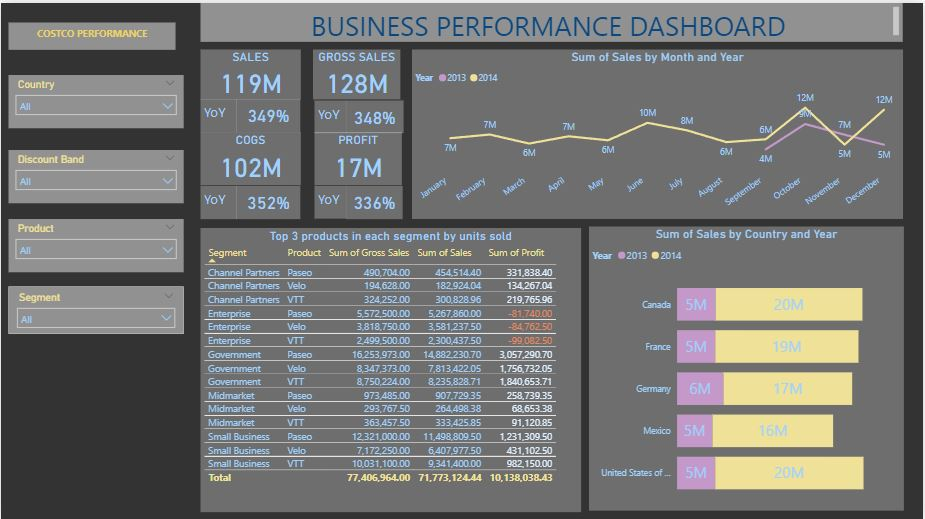

Layout of this report page (visuals, bound fields, positions):
{"tool":"powerbi","page":{"name":"costco ","canvas":[1280,720],"ordinal":0},"visuals":[{"type":"card","title":"SALES","fields":{"Values":["Sum(financials. Sales)"]},"box":[276.2,65.1,139.2,69.6],"z":0},{"type":"card","title":"GROSS SALES","fields":{"Values":["Sum(financials.Gross Sales)"]},"box":[434.2,64.7,121.6,69.5],"z":1000},{"type":"card","title":"COGS","fields":{"Values":["Sum(financials.COGS)"]},"box":[276.2,179.6,139.2,74.1],"z":2000},{"type":"card","title":"PROFIT","fields":{"Values":["Sum(financials.Profit)"]},"box":[435.6,179.6,121.3,74.1],"z":3000},{"type":"textbox","box":[276.3,0,709,53.7],"z":4000},{"type":"card","fields":{"Values":["financials. Sales YoY%"]},"box":[326.8,134.2,88.4,45.8],"z":5000},{"type":"textbox","box":[276.3,134.2,50.5,45.8],"z":6000},{"type":"card","fields":{"Values":["financials.Gross Sales YoY%"]},"box":[478.3,134.4,79.7,45.3],"z":7000},{"type":"textbox","box":[434.5,134.4,43.8,45.3],"z":8000},{"type":"card","fields":{"Values":["financials.COGS YoY%"]},"box":[326.8,254.2,88.4,45.8],"z":9000},{"type":"card","fields":{"Values":["financials.Profit YoY%"]},"box":[478.4,254.2,78.9,45.8],"z":10000},{"type":"textbox","box":[434.5,254.8,43.8,45.3],"z":11000},{"type":"textbox","box":[276.3,254.2,50.5,45.8],"z":12000},{"type":"lineChart","fields":{"Category":["financials.Date.Variation.Date Hierarchy.Month"],"Y":["Sum(financials. Sales)"],"Series":["financials.Date.Variation.Date Hierarchy.Year"]},"box":[571.6,64.7,682.1,235.3],"z":13000},{"type":"tableEx","title":"Top 3 products in each segment by units sold","fields":{"Values":["financials.Segment","financials.Product","Sum(financials.Gross Sales)","Sum(financials. Sales)","Sum(financials.Profit)"]},"box":[276.3,312.6,529,394.7],"z":14000},{"type":"barChart","fields":{"Category":["financials.Country"],"Y":["Sum(financials. Sales)"],"Series":["financials.Date.Variation.Date Hierarchy.Year"]},"box":[816.3,311.1,437.4,394.7],"z":15000},{"type":"textbox","box":[9.5,26.8,232.1,37.9],"z":16000},{"type":"slicer","fields":{"Values":["financials.Country"]},"box":[9.5,99.5,243.2,74.2],"z":17000},{"type":"slicer","fields":{"Values":["financials.Discount Band"]},"box":[9.5,203.7,243.2,74.2],"z":18000},{"type":"slicer","fields":{"Values":["financials.Product"]},"box":[9.5,300,243.2,74.2],"z":19000},{"type":"slicer","fields":{"Values":["financials.Segment"]},"box":[9.5,393.2,243.2,66.3],"z":20000}]}

Visuals, with their boxes in screenshot pixels (x1, y1, x2, y2), scaled from the page's 1280x720 canvas onto the 925x519 screenshot:
"SALES" card: x1=200, y1=47, x2=300, y2=97
"GROSS SALES" card: x1=314, y1=47, x2=402, y2=97
"COGS" card: x1=200, y1=129, x2=300, y2=183
"PROFIT" card: x1=315, y1=129, x2=402, y2=183
textbox: x1=200, y1=0, x2=712, y2=39
card - financials. Sales YoY%: x1=236, y1=97, x2=300, y2=130
textbox: x1=200, y1=97, x2=236, y2=130
card - financials.Gross Sales YoY%: x1=346, y1=97, x2=403, y2=130
textbox: x1=314, y1=97, x2=346, y2=130
card - financials.COGS YoY%: x1=236, y1=183, x2=300, y2=216
card - financials.Profit YoY%: x1=346, y1=183, x2=403, y2=216
textbox: x1=314, y1=184, x2=346, y2=216
textbox: x1=200, y1=183, x2=236, y2=216
lineChart - financials.Date.Variation.Date Hierarchy.Month x Sum(financials. Sales): x1=413, y1=47, x2=906, y2=216
"Top 3 products in each segment by units sold" tableEx: x1=200, y1=225, x2=582, y2=510
barChart - financials.Country x Sum(financials. Sales): x1=590, y1=224, x2=906, y2=509
textbox: x1=7, y1=19, x2=175, y2=47
slicer - financials.Country: x1=7, y1=72, x2=183, y2=125
slicer - financials.Discount Band: x1=7, y1=147, x2=183, y2=200
slicer - financials.Product: x1=7, y1=216, x2=183, y2=270
slicer - financials.Segment: x1=7, y1=283, x2=183, y2=331
